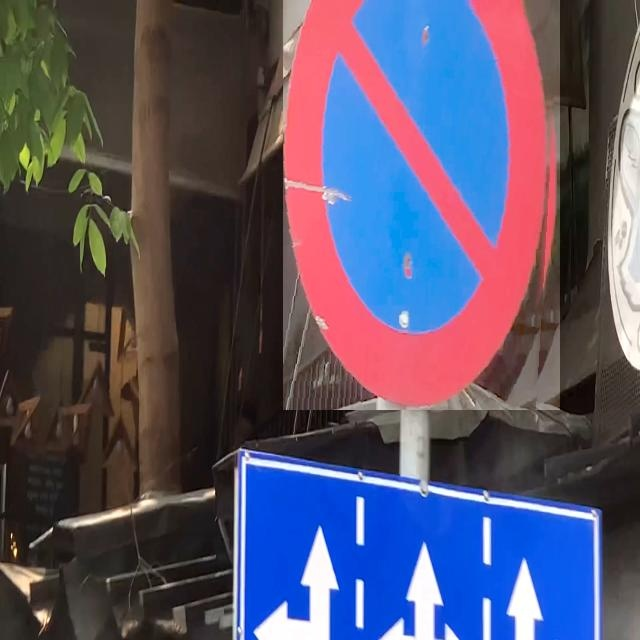bien_cam: (283, 0, 560, 410)
